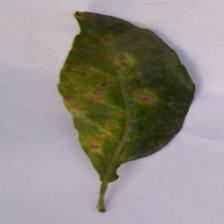canker: (54, 29, 150, 152)
